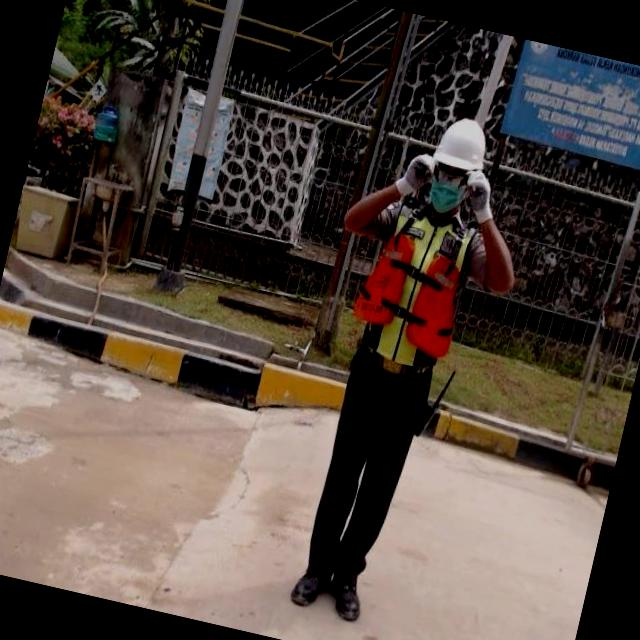vest: (338, 191, 484, 380)
